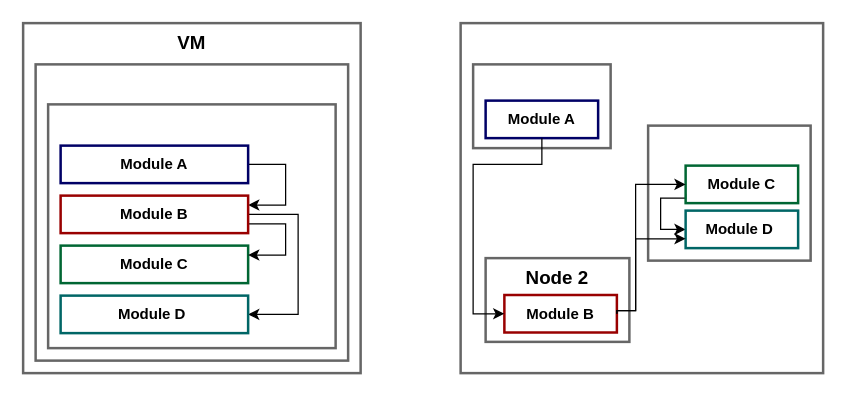
Some shapes in this 845 by 395 pixel diagram are drawn without their labels. Each missing label, with the box of its shape:
Application Server: (34, 62, 349, 361)
Cloud: (459, 21, 824, 374)
EAR/WAR: (46, 102, 336, 349)
Node 1: (471, 62, 611, 149)
Node 3: (646, 124, 811, 261)
